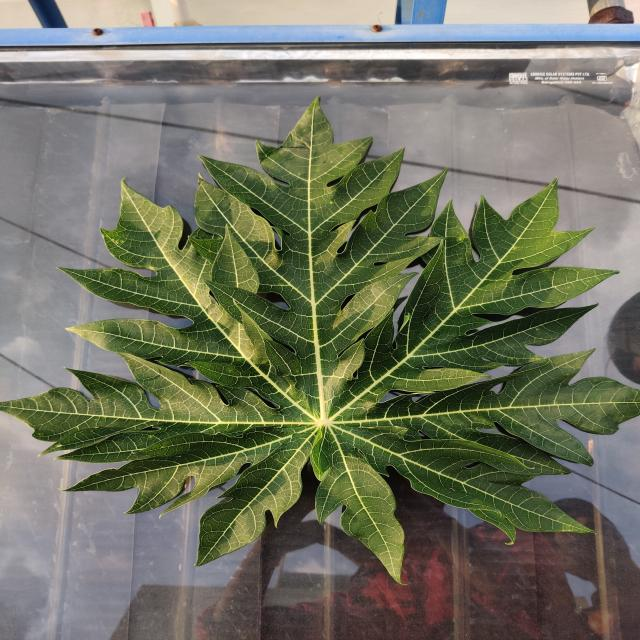papaya: (3, 99, 638, 581)
